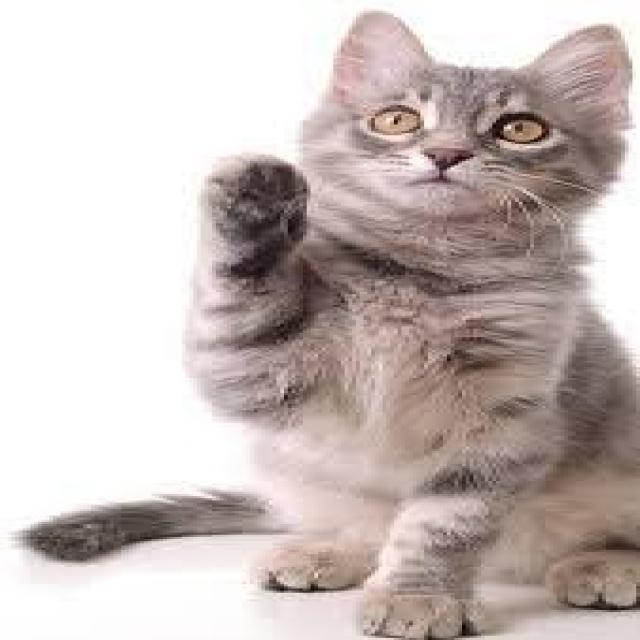Cat: (286, 4, 640, 229)
